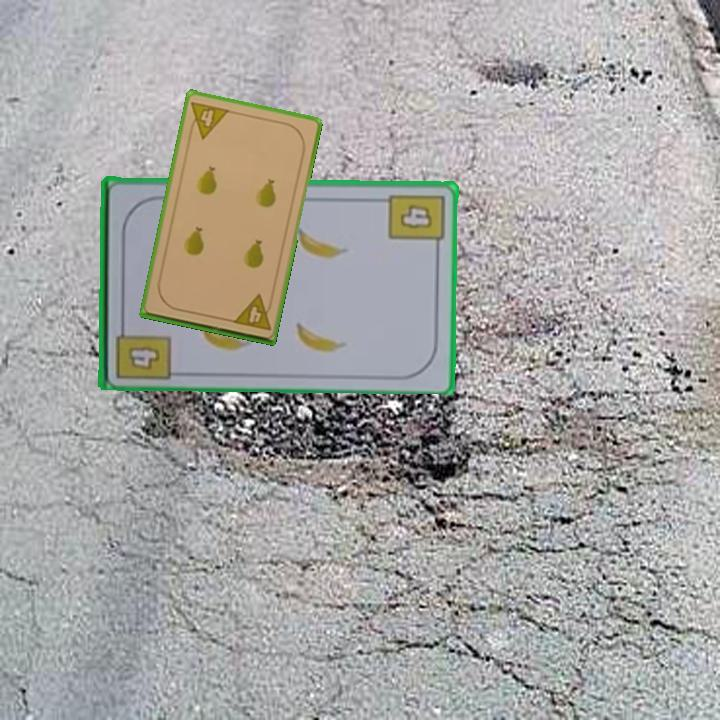4b: (111, 316, 173, 382), (385, 190, 447, 253)
4p: (185, 98, 232, 142), (229, 291, 276, 333)
